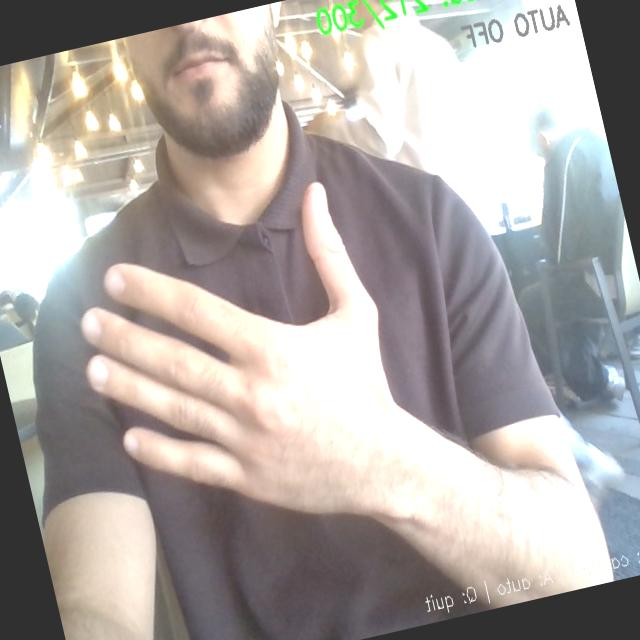Hand: (82, 184, 410, 514)
